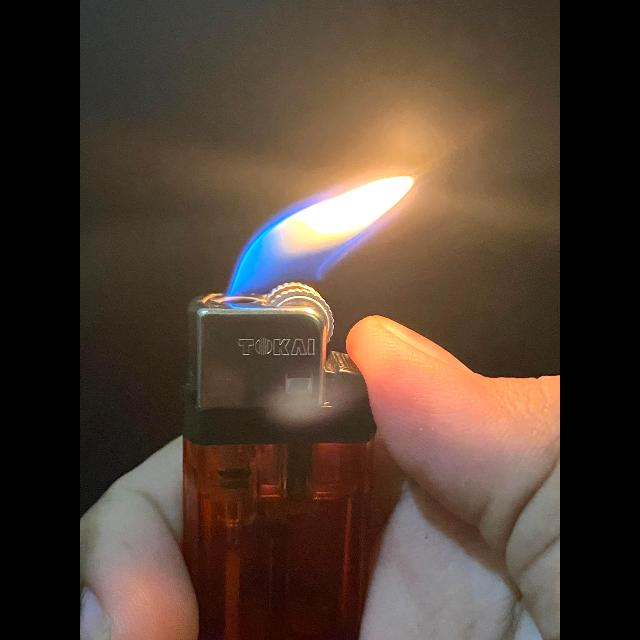fire: (182, 175, 412, 448)
